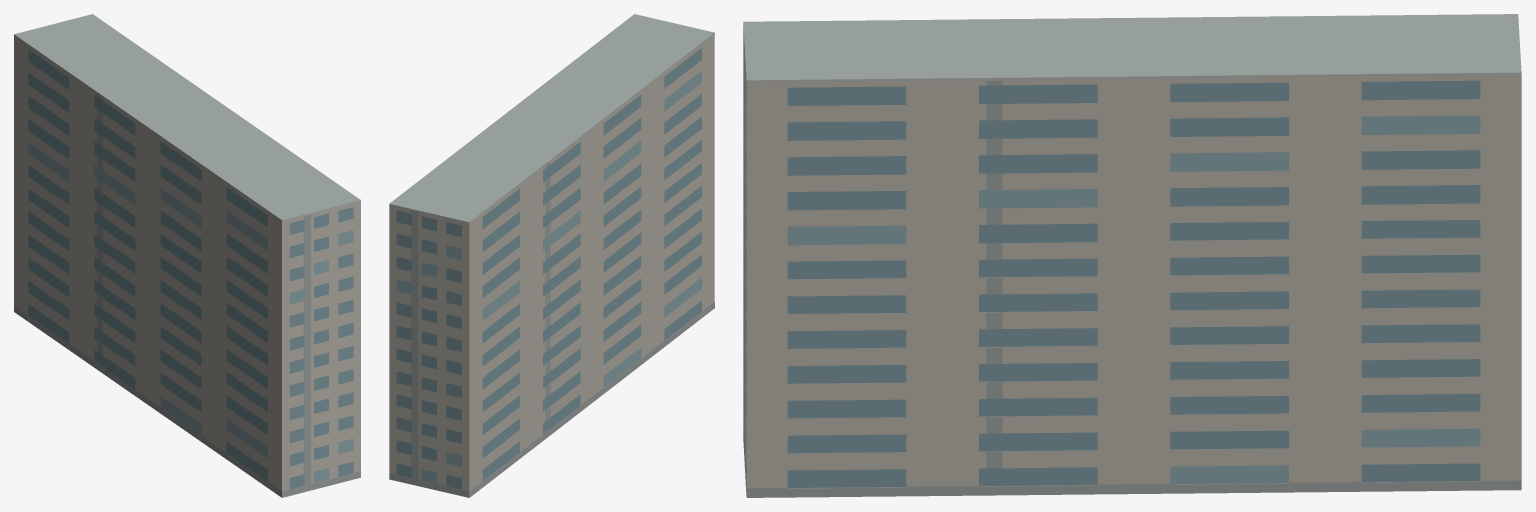
File: residential-99f759cb-ffbd-4e29-9a7c-259c4259aa9c.glb
3 views of the same model, side by side, from view 1: azimuth 30°, elevation 25°; view 2: azimuth 150°, elevation 25°; view 3: azimuth 270°, elevation 25° (orthographic). The views are drawn at different scales.
Parts seen in each view (by area): view 1: residential-99f759cb-ffbd-4e29-9a7c-259c4259aa9c.tmp; view 2: residential-99f759cb-ffbd-4e29-9a7c-259c4259aa9c.tmp; view 3: residential-99f759cb-ffbd-4e29-9a7c-259c4259aa9c.tmp.
Boxes of the visible parts, <box> form: residential-99f759cb-ffbd-4e29-9a7c-259c4259aa9c.tmp: <box>14,14,360,497</box>; residential-99f759cb-ffbd-4e29-9a7c-259c4259aa9c.tmp: <box>389,14,714,497</box>; residential-99f759cb-ffbd-4e29-9a7c-259c4259aa9c.tmp: <box>743,14,1521,497</box>.
Size of the model in its own units: 11.59 by 34 by 57.43.
